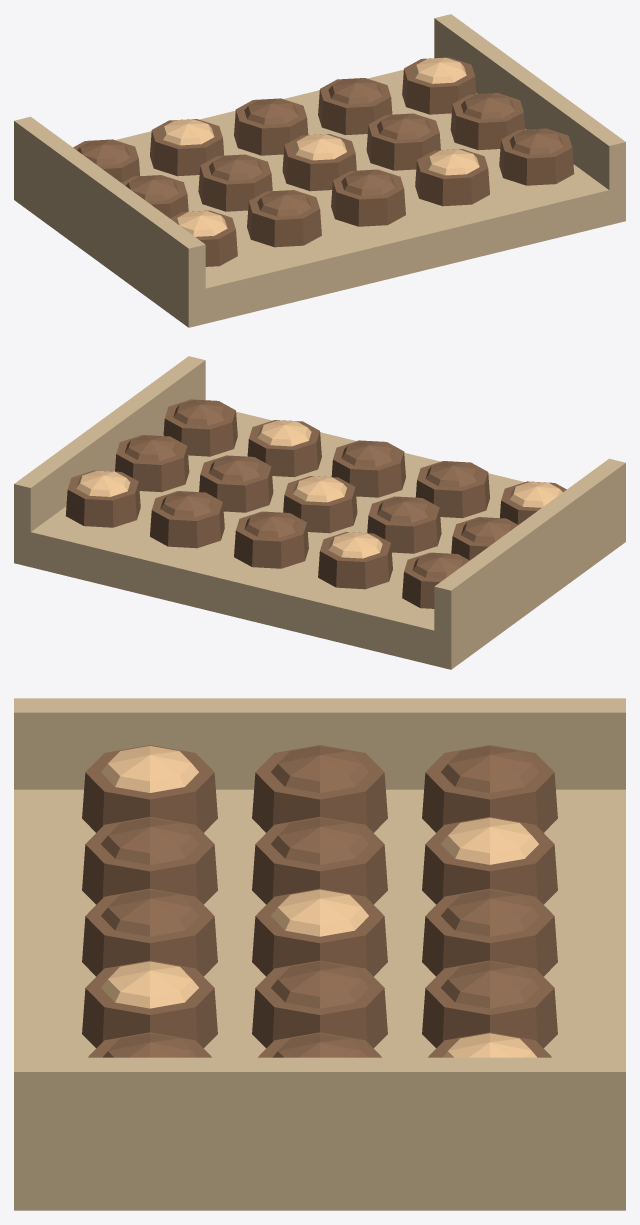
File: chocolate-and-confectionery-factory-praline-shell-tray-6f90c934__36774.glb
3 renders of one model, top to bottom at view 1: azimuth 30°, elevation 25°; view 2: azimuth 150°, elevation 25°; view 3: azimuth 270°, elevation 25°, orthographic. The views are drawn at different scales.
Parts seen in each view (by area): view 1: praline-shell-tray; view 2: praline-shell-tray; view 3: praline-shell-tray.
Boxes of the visible parts, x1,y1,x2,y2 form: praline-shell-tray: (14,14,625,327); praline-shell-tray: (14,356,625,669); praline-shell-tray: (14,698,625,1210).
Size of the model in its own units: 0.52 by 0.09 by 0.36.
